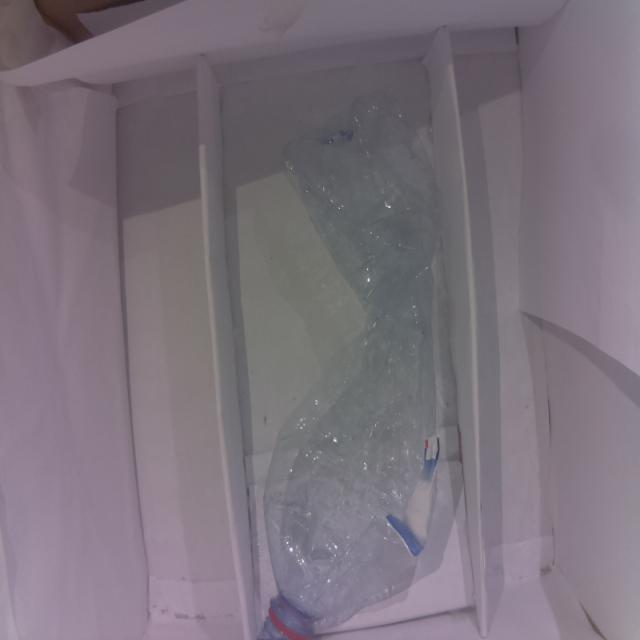Anorganik: (266, 101, 447, 640)
